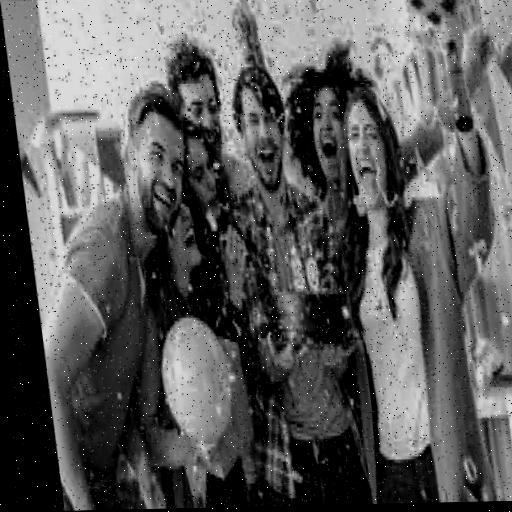balloon: (148, 319, 229, 443)
